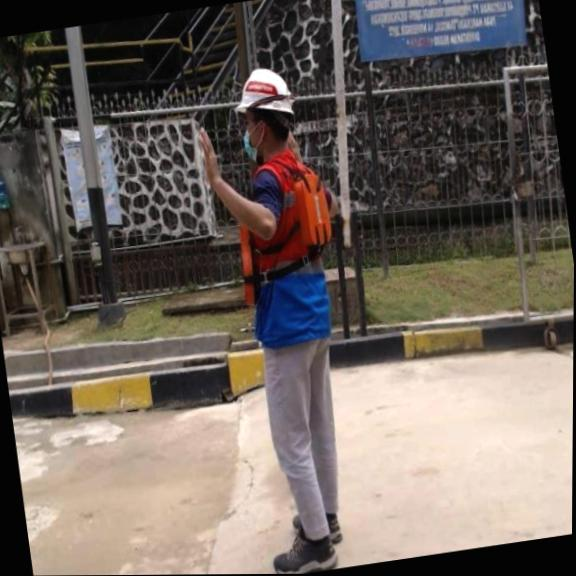safety_vest: (223, 167, 348, 315)
